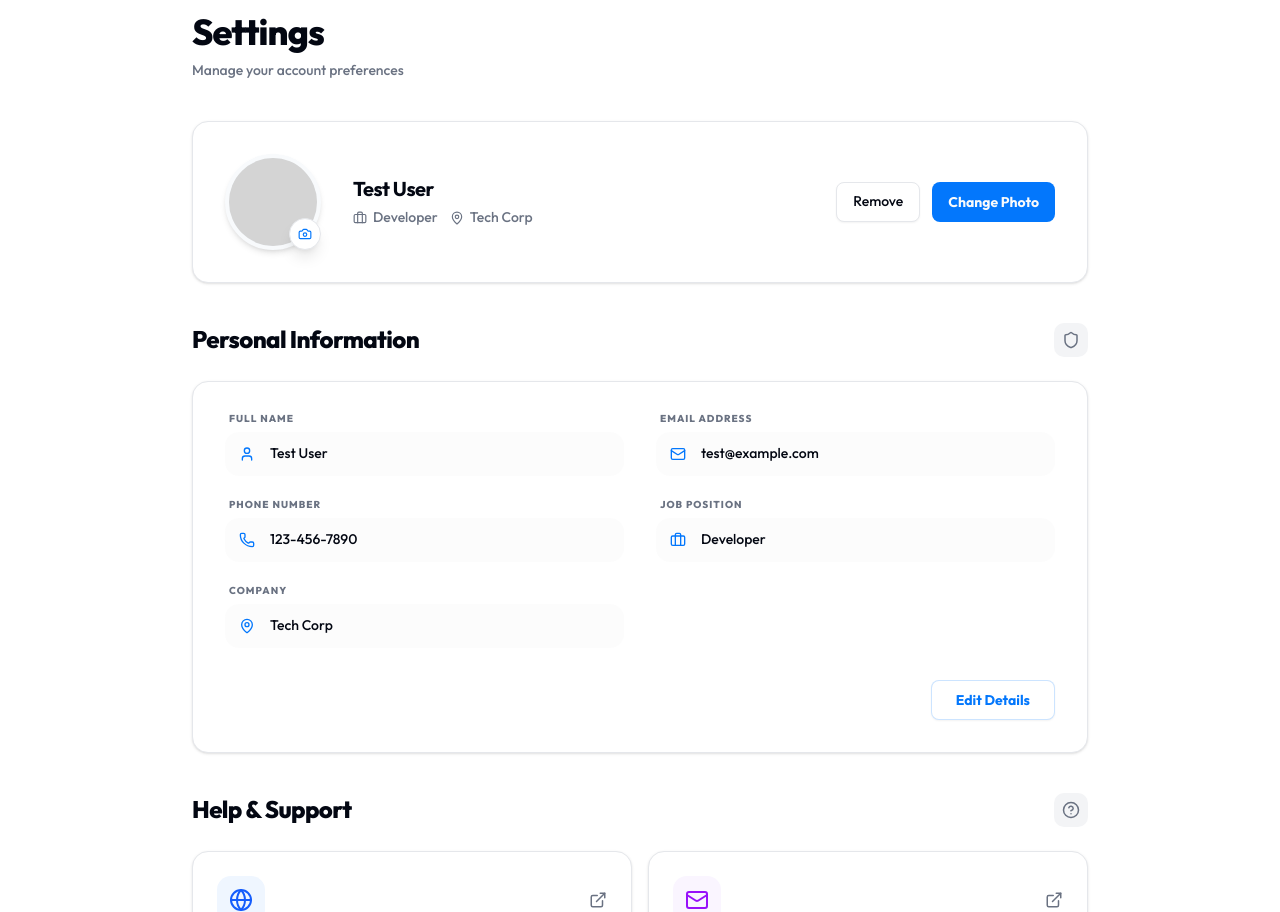
Test case: SettingsPage › toggles edit mode
Click the button "Edit Details" at x=993, y=700, box [931,680,1055,720]
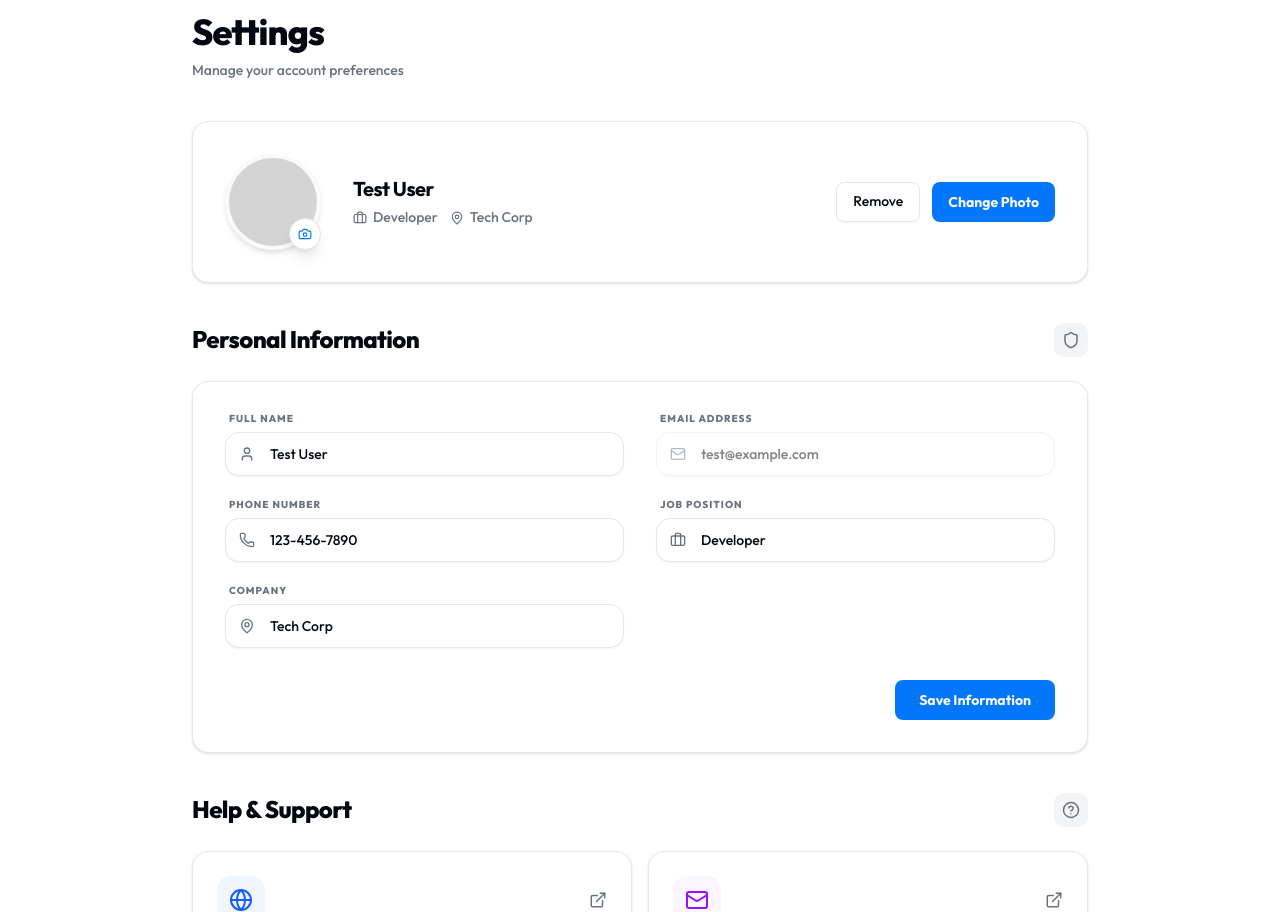
Expected: the field showing "Test User" below "Full Name" is shown, [225,432,624,476]
Expected: the button "Edit Details" is gone
Expected: the button "Save Information" is shown, [895,680,1055,720]
